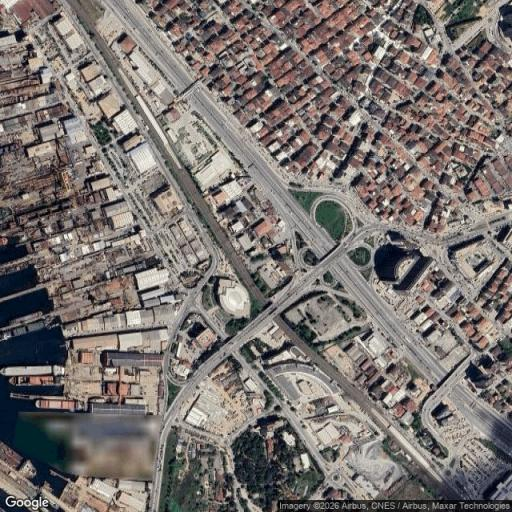ship: (1, 321, 46, 340), (0, 441, 23, 469), (2, 366, 52, 375), (10, 311, 43, 324), (8, 376, 54, 385), (35, 400, 74, 409), (2, 261, 28, 274), (0, 238, 8, 246)
